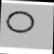no answer: (3, 9, 35, 34)
